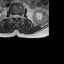CCS_normal: (15, 12, 17, 22)
LFS_normal: (19, 12, 22, 20)
LLS_normal: (17, 12, 20, 20)
RFS_normal: (11, 12, 13, 20)
RLS_normal: (13, 12, 15, 20)
